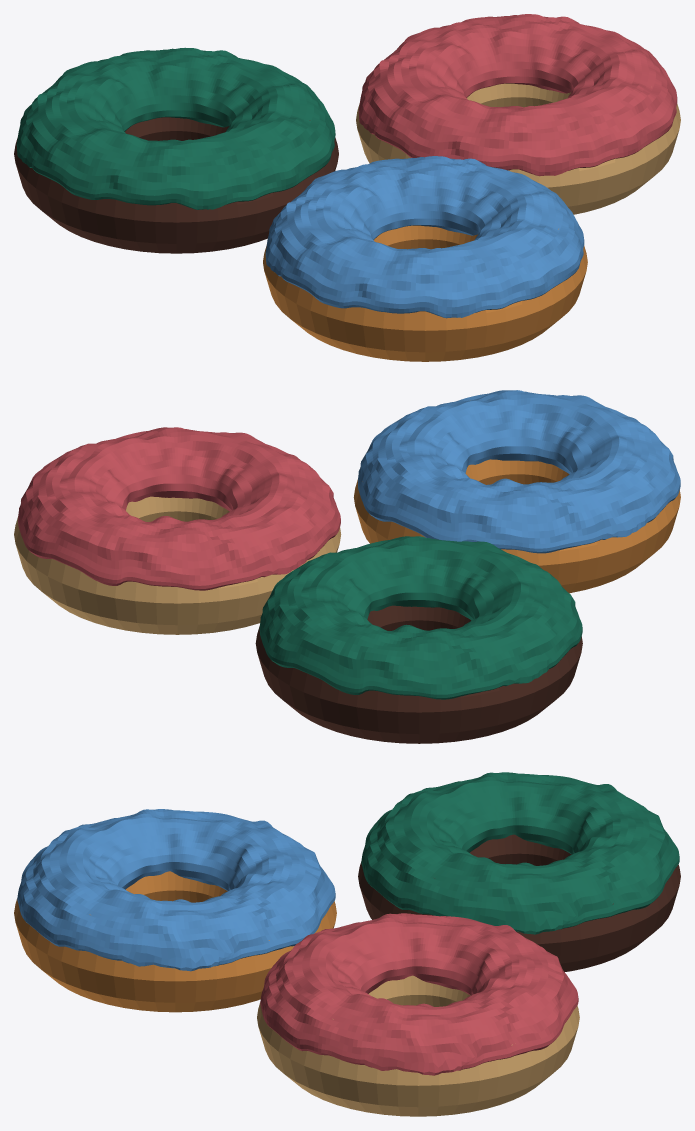
The model's file is threeDonuts_2.fbx.
3 renders of one model, top to bottom at view 1: azimuth 30°, elevation 25°; view 2: azimuth 150°, elevation 25°; view 3: azimuth 270°, elevation 25°, orthographic.
Parts seen in each view (by area): view 1: Torus.000, Torus.001, Torus.002; view 2: Torus.001, Torus.002, Torus.000; view 3: Torus.002, Torus.000, Torus.001.
Boxes of the visible parts, <box> form: Torus.000: <box>263,156,587,361</box>; Torus.001: <box>14,47,338,253</box>; Torus.002: <box>356,14,680,214</box>; Torus.001: <box>255,536,582,743</box>; Torus.002: <box>14,427,341,634</box>; Torus.000: <box>353,390,680,593</box>; Torus.002: <box>257,913,579,1116</box>; Torus.000: <box>14,809,336,1012</box>; Torus.001: <box>358,772,680,971</box>.
Size of the model in its own units: 920 by 163 by 933.
